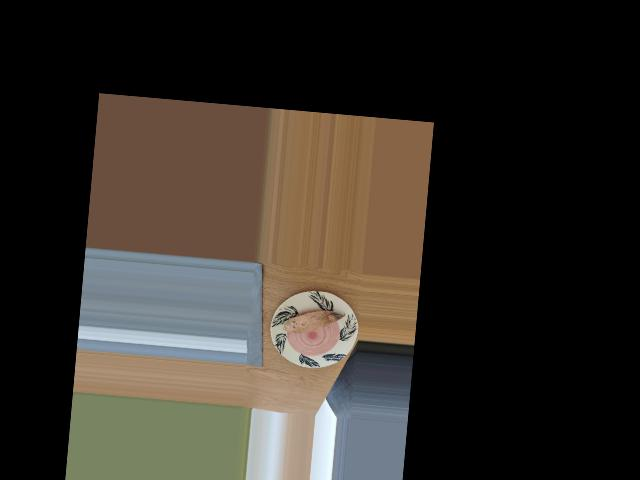sweet_potato: (284, 302, 340, 340)
